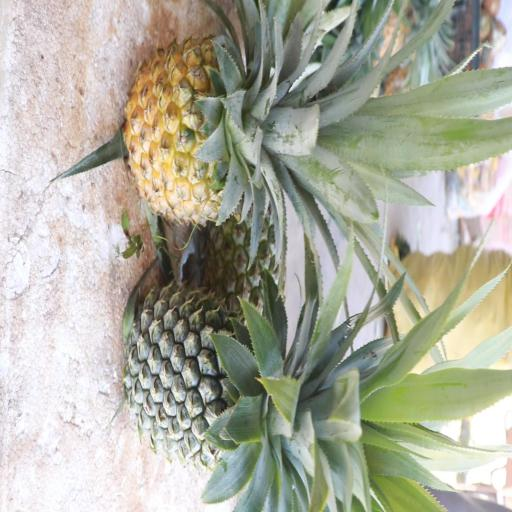Pineapple - v8 v1: (121, 23, 382, 236)
